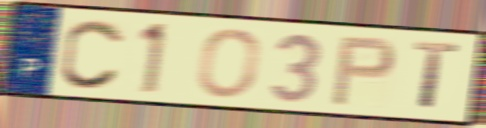1: (136, 21, 169, 96)
3: (268, 30, 325, 105)
C: (57, 17, 127, 92)
O: (194, 26, 263, 100)
P: (328, 35, 398, 108)
T: (412, 39, 462, 113)
